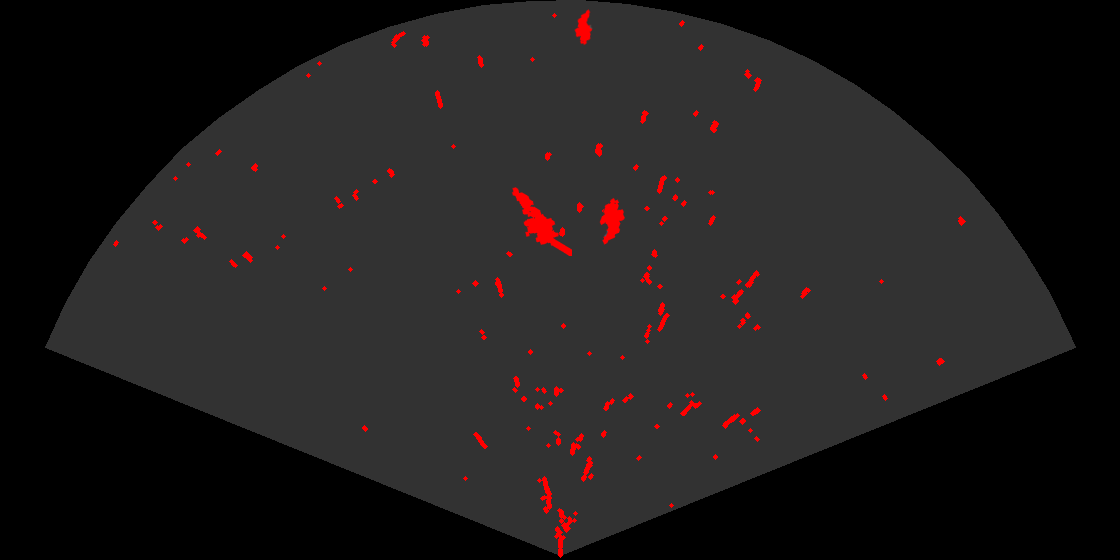AUV: (598, 196, 626, 246), (573, 8, 594, 47)
frogman: (510, 186, 572, 256)
